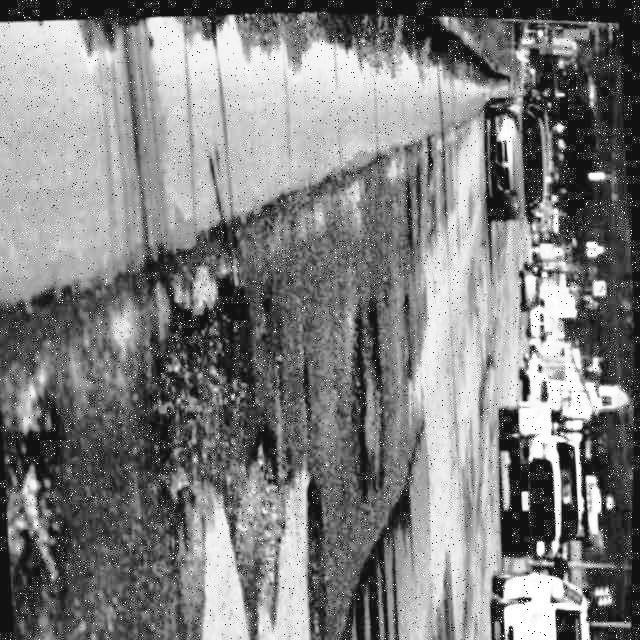Pothole: (138, 267, 307, 638), (339, 288, 400, 503), (297, 471, 338, 640)
